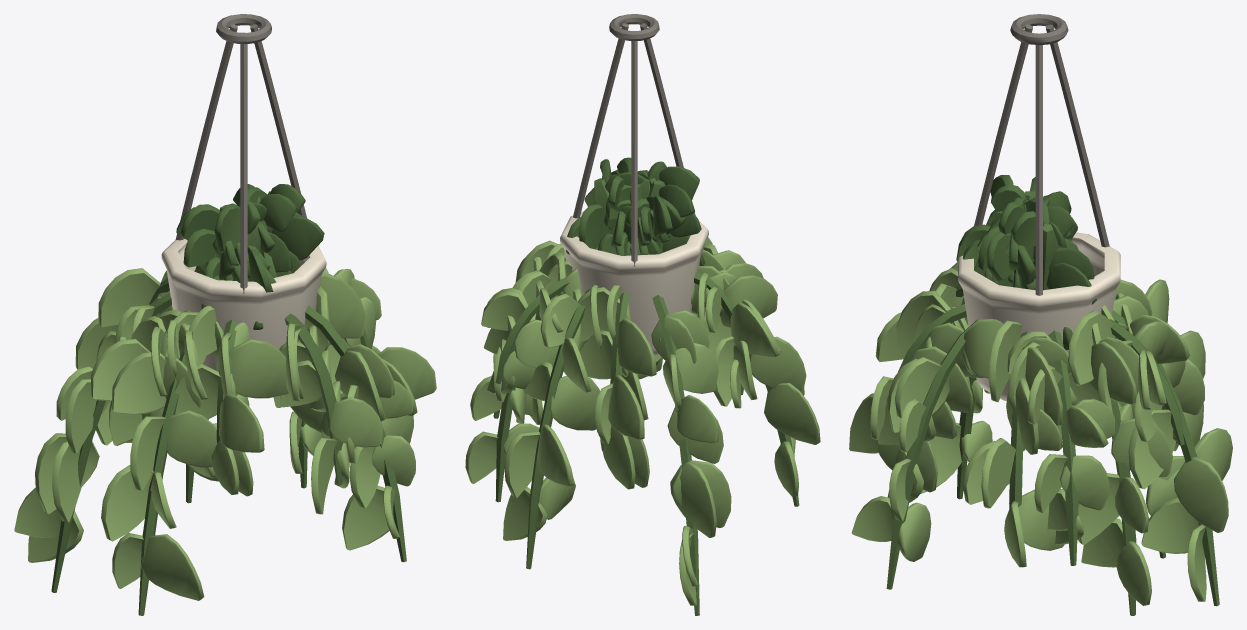
Rendered from suspension_feuillage.glb.
The picture shows the model from 3 angles, left to right: view 1: azimuth 30°, elevation 25°; view 2: azimuth 150°, elevation 25°; view 3: azimuth 270°, elevation 25°; orthographic projection. The views are drawn at different scales.
Visible parts, largest first — view 1: SSA_Feuille_Clair, SSA_Feuille_Fonce, SSA_Tige, SSA_Pot_Creme, SSA_Metal; view 2: SSA_Feuille_Clair, SSA_Feuille_Fonce, SSA_Tige, SSA_Pot_Creme, SSA_Metal; view 3: SSA_Feuille_Clair, SSA_Tige, SSA_Feuille_Fonce, SSA_Pot_Creme, SSA_Metal.
Part boxes in pixels (bbox=[...]): SSA_Feuille_Clair: bbox=[14, 267, 436, 600]; SSA_Feuille_Fonce: bbox=[176, 184, 324, 329]; SSA_Tige: bbox=[51, 191, 406, 615]; SSA_Pot_Creme: bbox=[161, 239, 326, 370]; SSA_Metal: bbox=[175, 14, 306, 293]; SSA_Feuille_Clair: bbox=[465, 237, 820, 605]; SSA_Feuille_Fonce: bbox=[566, 157, 705, 265]; SSA_Tige: bbox=[493, 178, 799, 615]; SSA_Pot_Creme: bbox=[560, 212, 708, 355]; SSA_Metal: bbox=[573, 14, 695, 266]; SSA_Feuille_Clair: bbox=[849, 262, 1232, 605]; SSA_Tige: bbox=[886, 191, 1219, 615]; SSA_Feuille_Fonce: bbox=[956, 175, 1096, 350]; SSA_Pot_Creme: bbox=[958, 232, 1120, 400]; SSA_Metal: bbox=[974, 14, 1109, 295].
Size of the model in its own units: 0.6626 by 1.08 by 0.6285.
